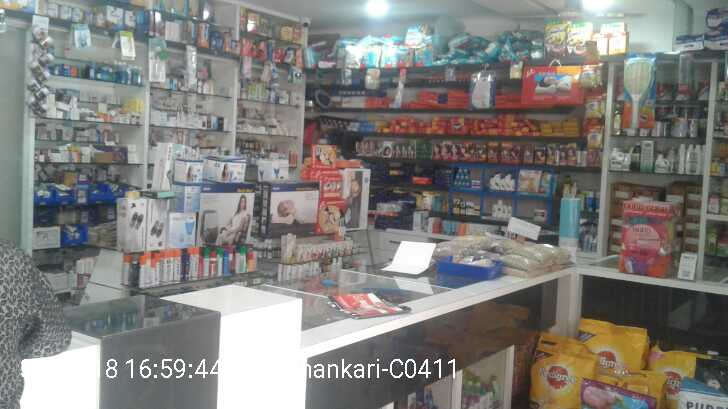beauty: (534, 210, 548, 223), (503, 171, 511, 190), (494, 171, 502, 190), (496, 199, 503, 217), (452, 198, 459, 215), (466, 201, 473, 214), (473, 205, 481, 216), (460, 201, 466, 215)
pharmacy: (345, 47, 379, 68), (382, 46, 414, 68), (403, 28, 431, 46), (415, 47, 432, 66), (462, 167, 470, 176), (457, 166, 463, 174), (465, 179, 471, 187), (464, 173, 470, 180), (455, 173, 460, 180), (459, 174, 464, 180)
